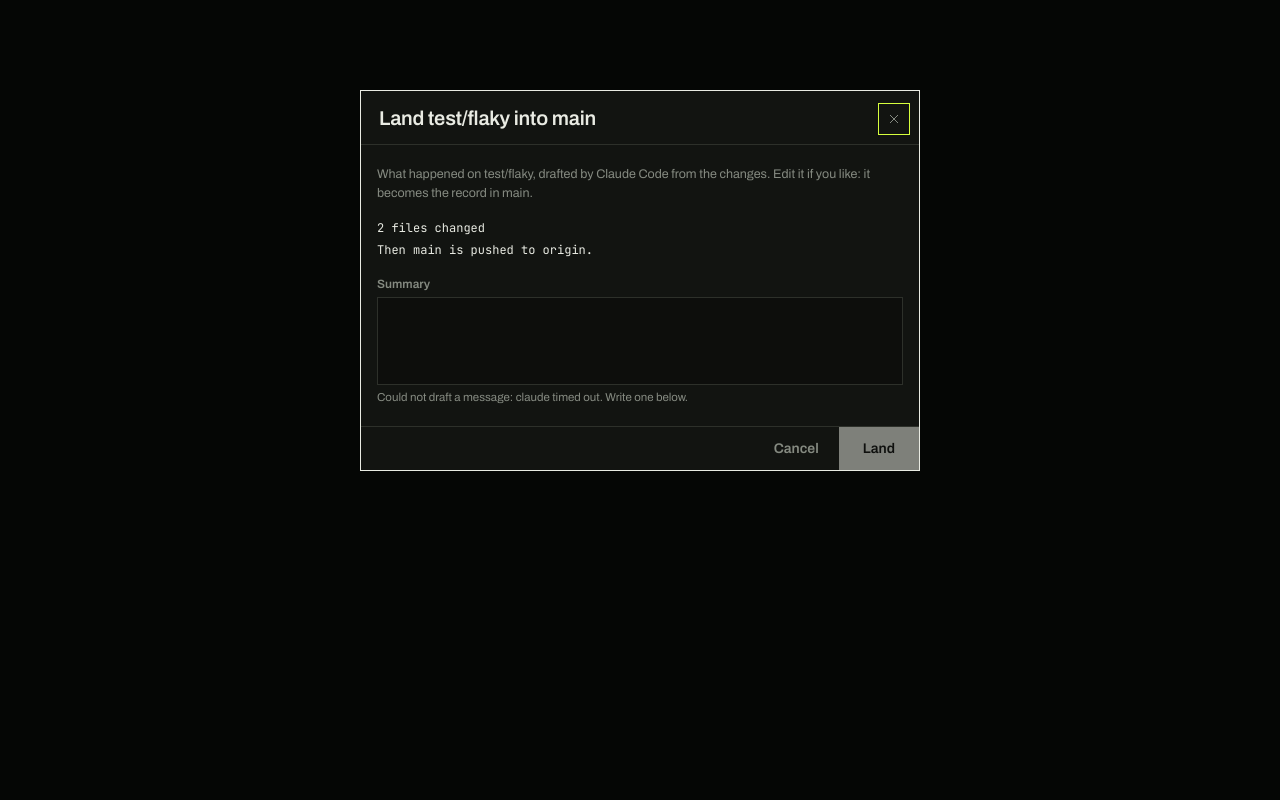
Test: LandModal (ADR-0025 phase C) › a refused landing reads as one failed line, and Land stays off without a summary
Check: the text "Could not draft a message" is shown, box [377,390,688,402]
Check: the button "Land" is disabled, box [839,427,919,470]
Type "Mine" into the text box labelled "Summary" at [640, 340], box [377,296,903,384]
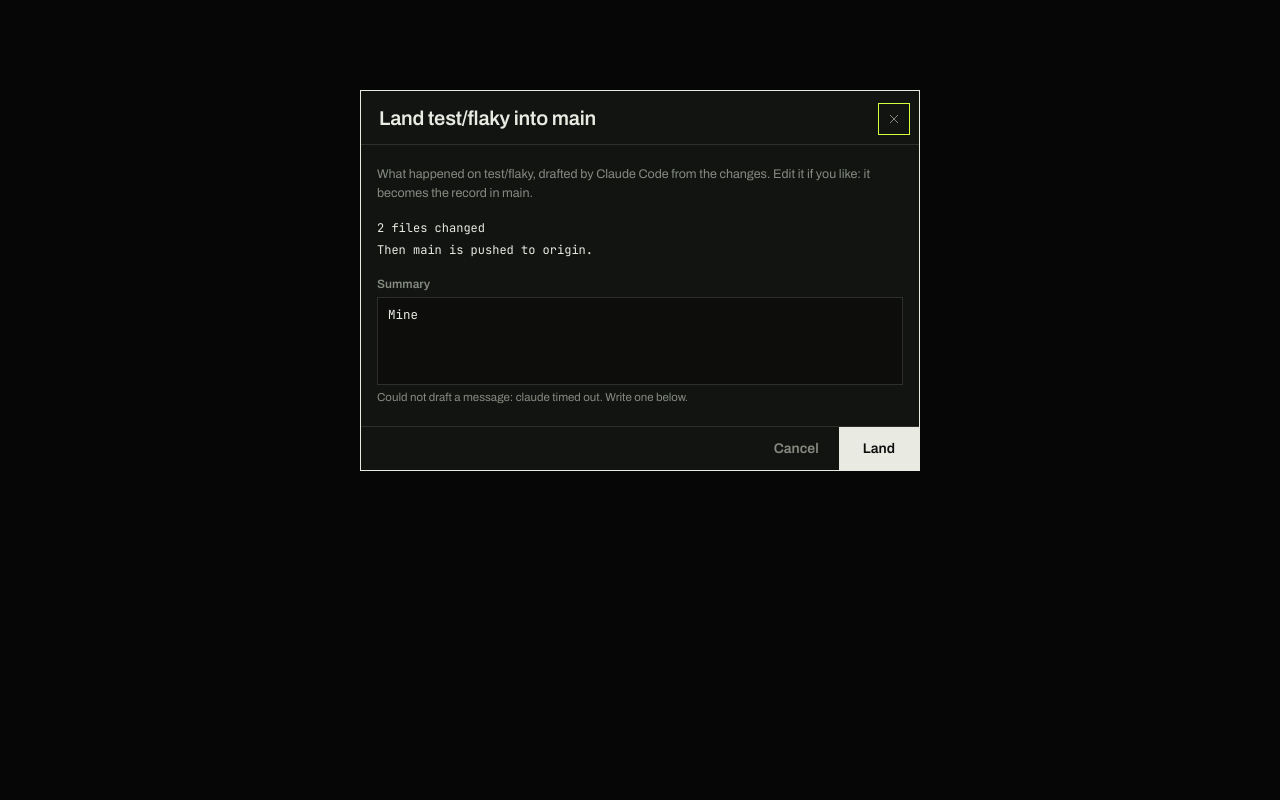
Check: the button "Land" is enabled
Click the button "Land" at [879, 448], box [839,427,919,470]
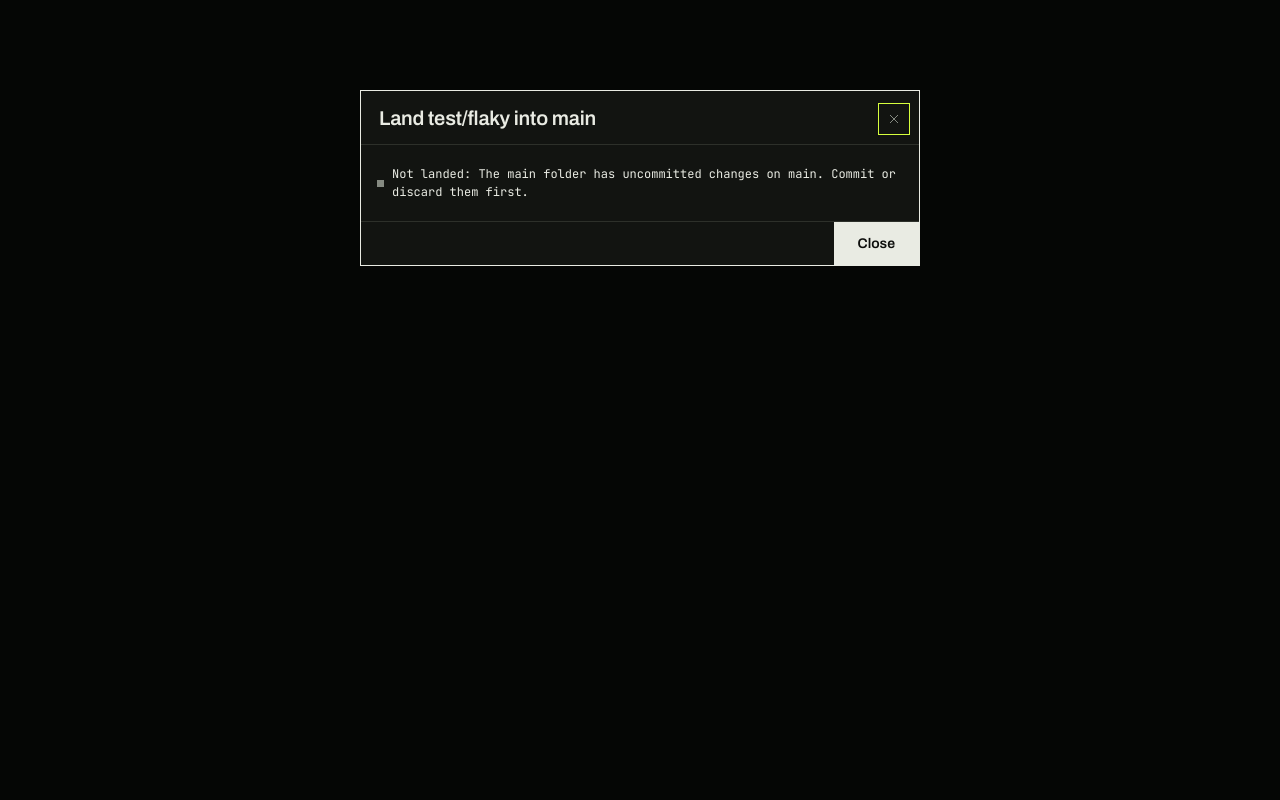
Check: the message shows "Not landed: The main folder has uncommitted changes on main. Commit or discard them first.", box [392,166,903,200]
